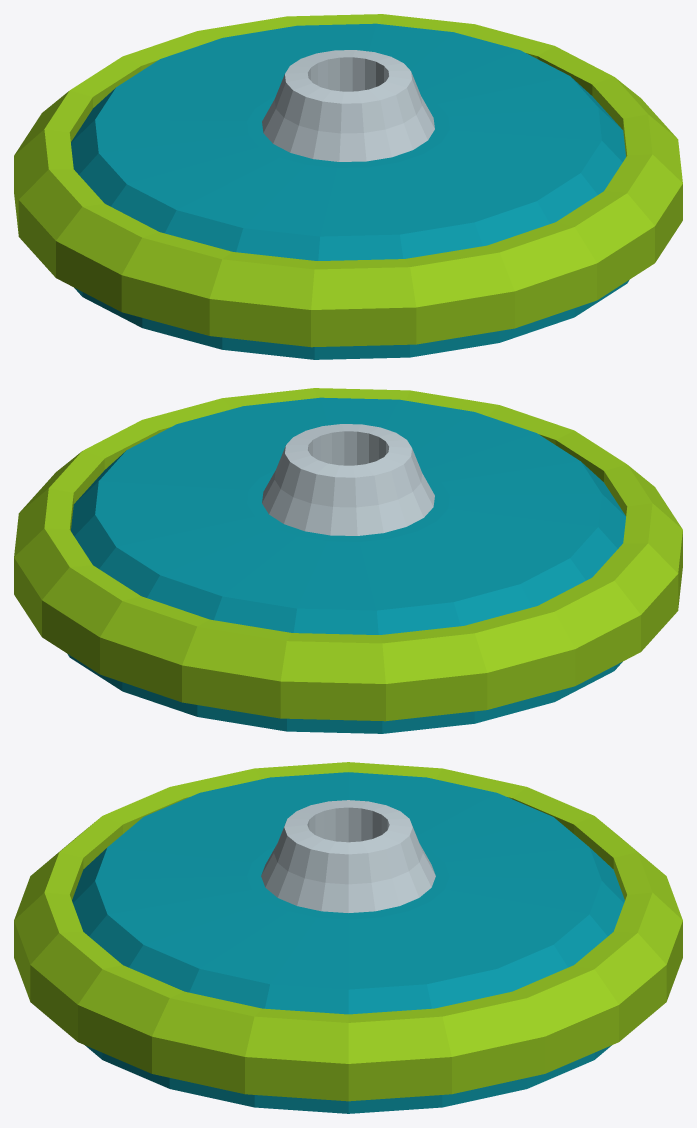
Rendered from SprayBuoy.glb.
3 renders of one model, top to bottom at view 1: azimuth 30°, elevation 25°; view 2: azimuth 150°, elevation 25°; view 3: azimuth 270°, elevation 25°, orthographic.
Parts seen in each view (by area): view 1: BuoyBody; view 2: BuoyBody; view 3: BuoyBody.
Boxes of the visible parts, <box> form: BuoyBody: <box>14,14,682,359</box>; BuoyBody: <box>14,388,682,733</box>; BuoyBody: <box>14,762,682,1113</box>.
Size of the model in its own units: 1.32 by 0.38 by 1.3.
